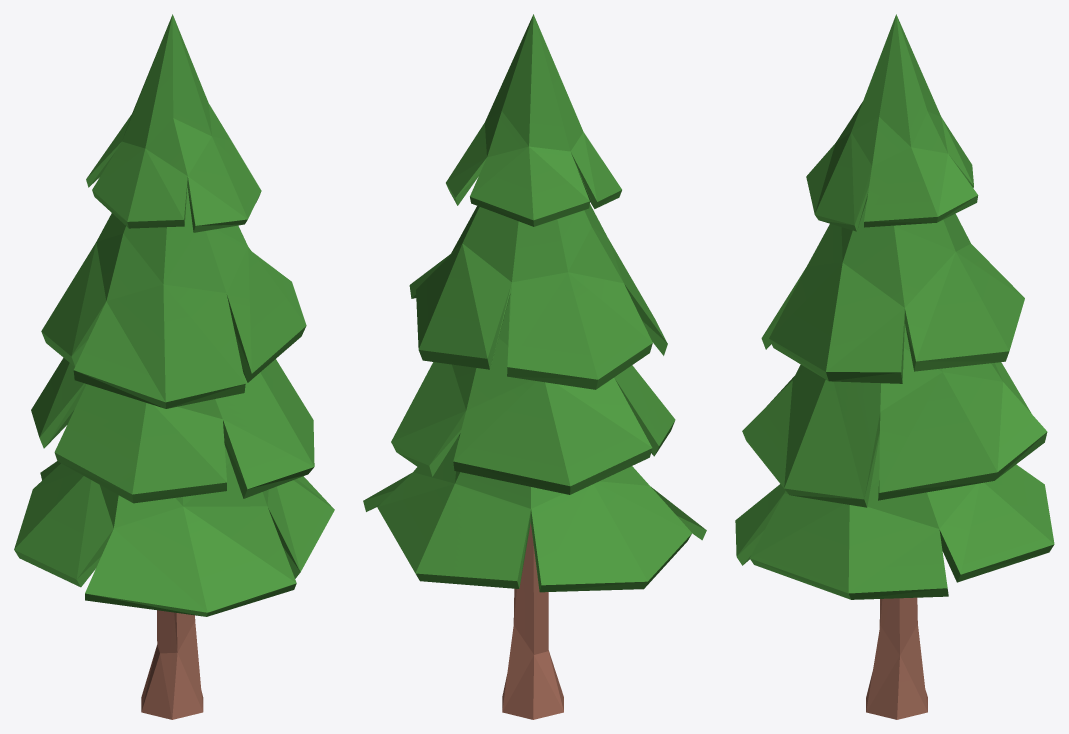
File: fir.glb
The picture shows the model from 3 angles, left to right: view 1: azimuth 30°, elevation 25°; view 2: azimuth 150°, elevation 25°; view 3: azimuth 270°, elevation 25°; orthographic projection.
Visible parts, largest first — view 1: fir_001.002; view 2: fir_001.002; view 3: fir_001.002.
Boxes of the visible parts, box(x1,y1,x2,y2) form: fir_001.002: box(14, 14, 334, 719); fir_001.002: box(363, 14, 706, 719); fir_001.002: box(735, 14, 1054, 719).
Size of the model in its own units: 2.63 by 6.18 by 2.59.
1 material, 1 textured.
